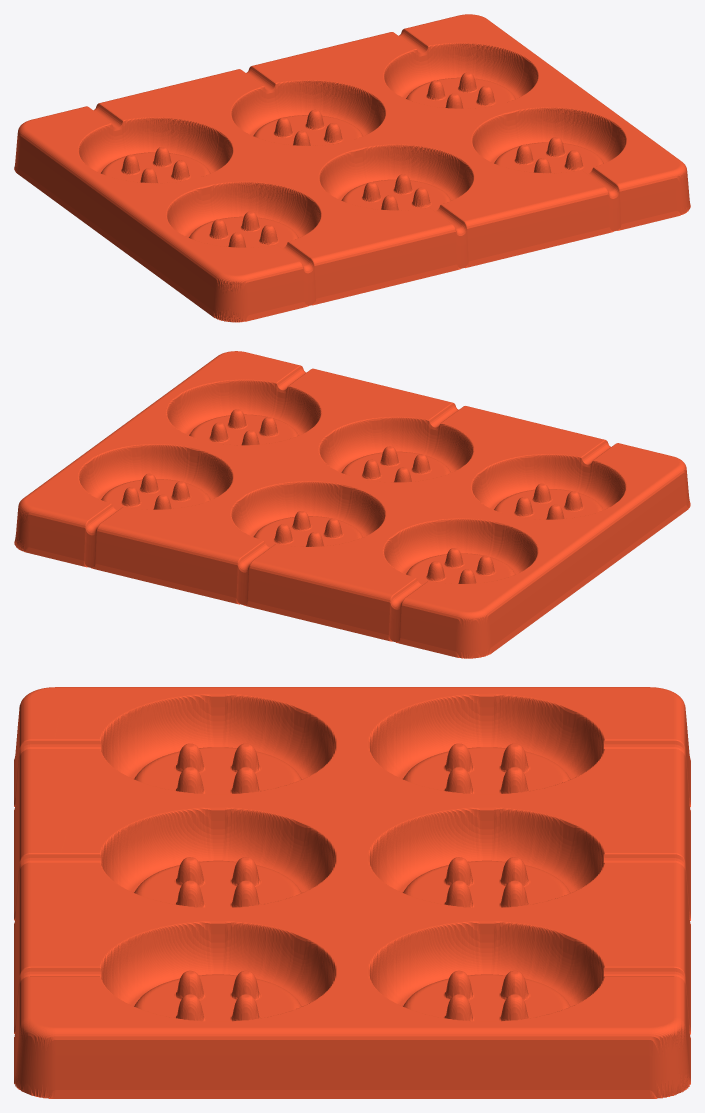
Rendered from mold.glb.
The picture shows the model from 3 angles, top to bottom: view 1: azimuth 30°, elevation 25°; view 2: azimuth 150°, elevation 25°; view 3: azimuth 270°, elevation 25°; orthographic projection. The views are drawn at different scales.
Visible parts, largest first — view 1: geometry_0; view 2: geometry_0; view 3: geometry_0.
Boxes of the visible parts, x1,y1,x2,y2 form: geometry_0: [14, 14, 690, 322]; geometry_0: [14, 351, 690, 658]; geometry_0: [14, 687, 690, 1098].
Size of the model in its own units: 0.1824 by 0.0155 by 0.1477.
